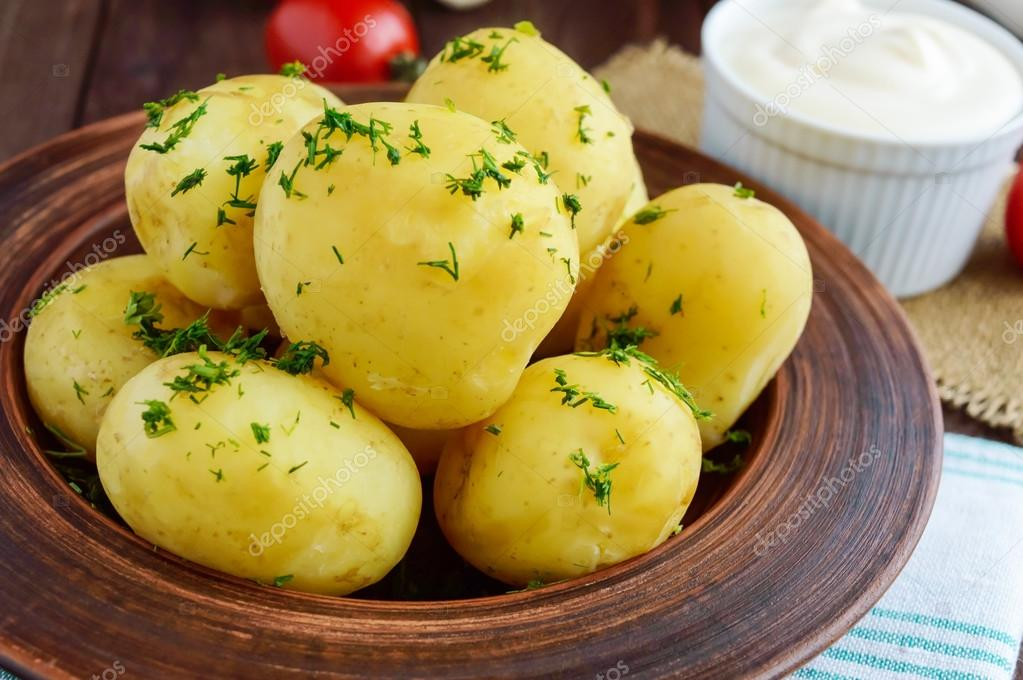boiled potatoes: (132, 122, 683, 535)
